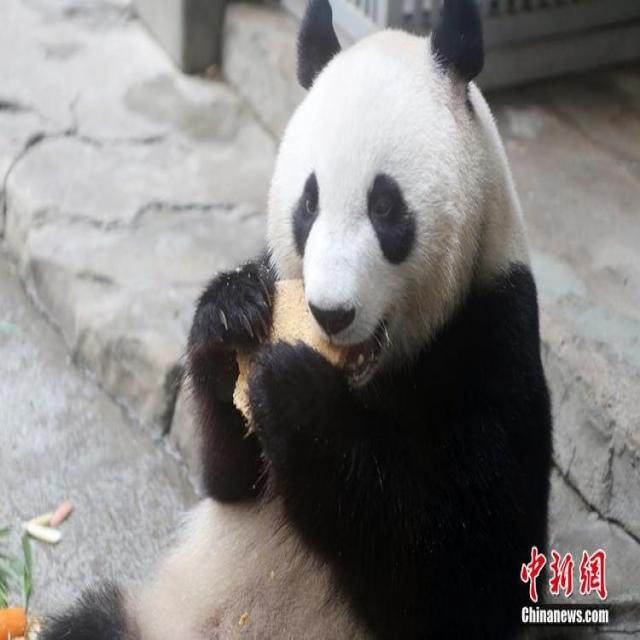panda: (191, 9, 548, 640)
